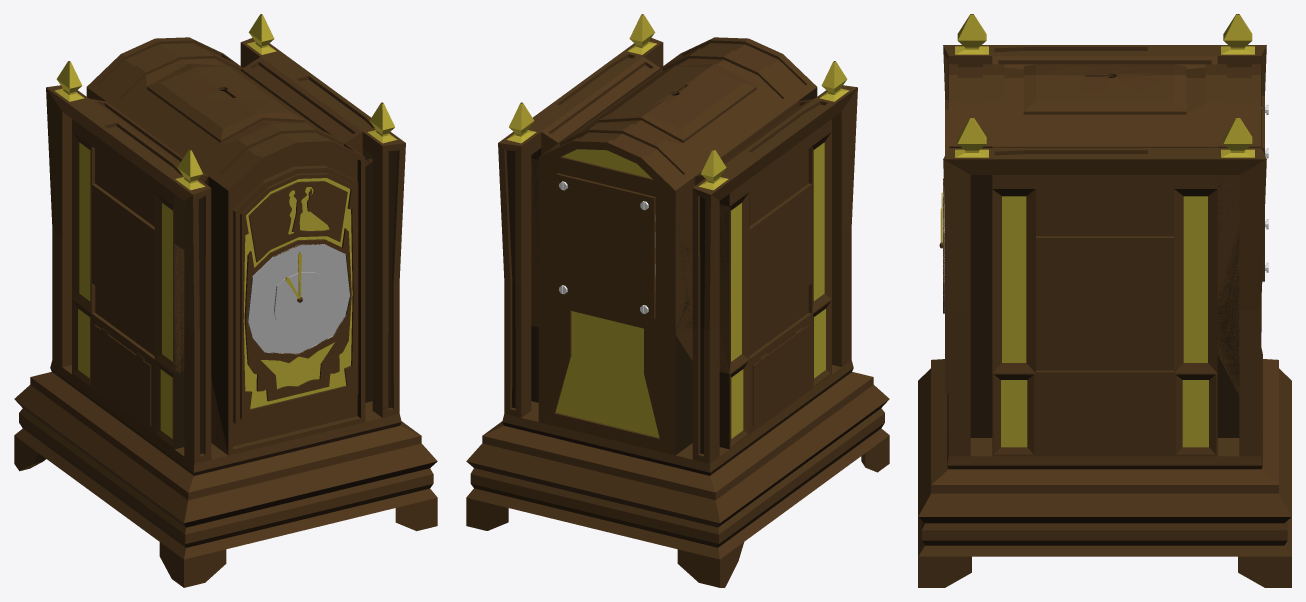
Rendered from clock_test_3.fbx.
The picture shows the model from 3 angles, left to right: view 1: azimuth 30°, elevation 25°; view 2: azimuth 150°, elevation 25°; view 3: azimuth 270°, elevation 25°; orthographic projection. The views are drawn at different scales.
Parts seen in each view (by area): view 1: BASE, dial, hatch_key, hatch_side; view 2: BASE, hatch_back, hatch_key, hatch_side; view 3: BASE, hatch_key, dial.
Boxes of the visible parts, x1=… form: BASE: x1=14, y1=14, x2=437, y2=587; dial: x1=240, y1=173, x2=355, y2=419; hatch_key: x1=161, y1=66, x2=290, y2=128; hatch_side: x1=94, y1=325, x2=151, y2=426; BASE: x1=466, y1=14, x2=889, y2=587; hatch_back: x1=556, y1=173, x2=655, y2=319; hatch_key: x1=613, y1=66, x2=742, y2=128; hatch_side: x1=752, y1=324, x2=809, y2=426; BASE: x1=918, y1=14, x2=1291, y2=587; hatch_key: x1=1036, y1=64, x2=1173, y2=101; dial: x1=939, y1=100, x2=948, y2=393.
Size of the model in its own units: 247 by 387 by 286.
